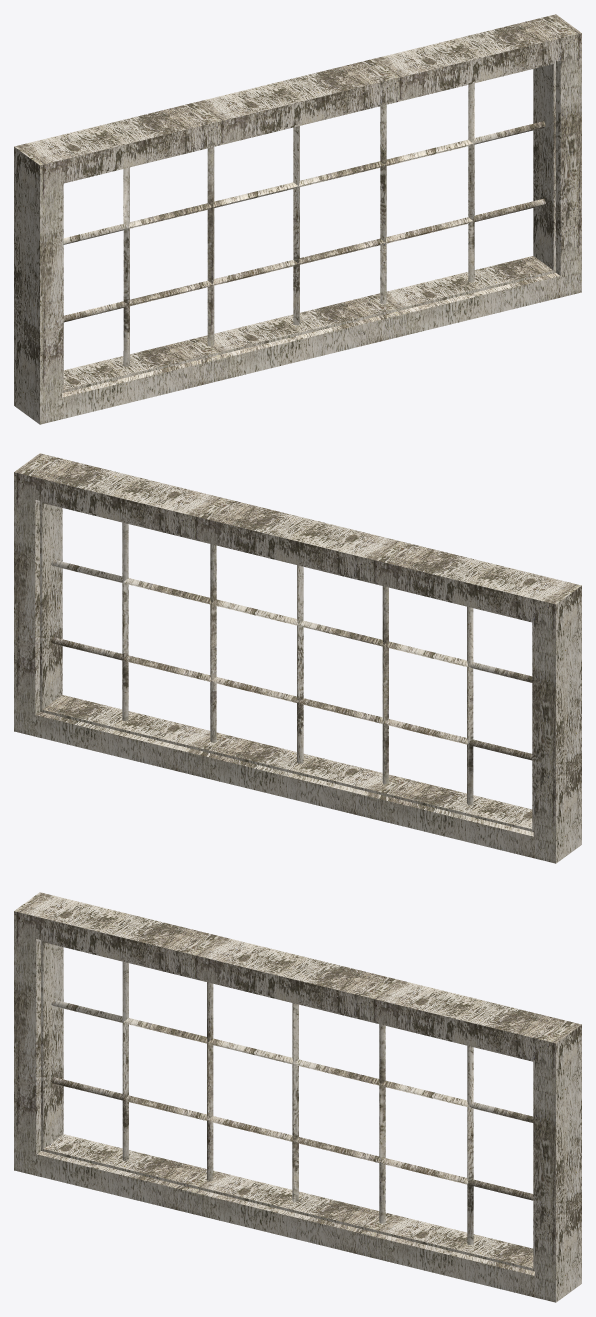
The model's file is window_02_LOD1.FBX.
The picture shows the model from 3 angles, top to bottom: view 1: azimuth 30°, elevation 25°; view 2: azimuth 150°, elevation 25°; view 3: azimuth 330°, elevation 25°; orthographic projection.
Parts seen in each view (by area): view 1: window_02_LOD1; view 2: window_02_LOD1; view 3: window_02_LOD1.
Boxes of the visible parts, x1,y1,x2,y2 form: window_02_LOD1: [14, 14, 581, 424]; window_02_LOD1: [14, 453, 581, 863]; window_02_LOD1: [14, 892, 581, 1302].
Size of the model in its own units: 15.23 by 6.96 by 1.26.
Materials: 1 (1 with a texture image).
